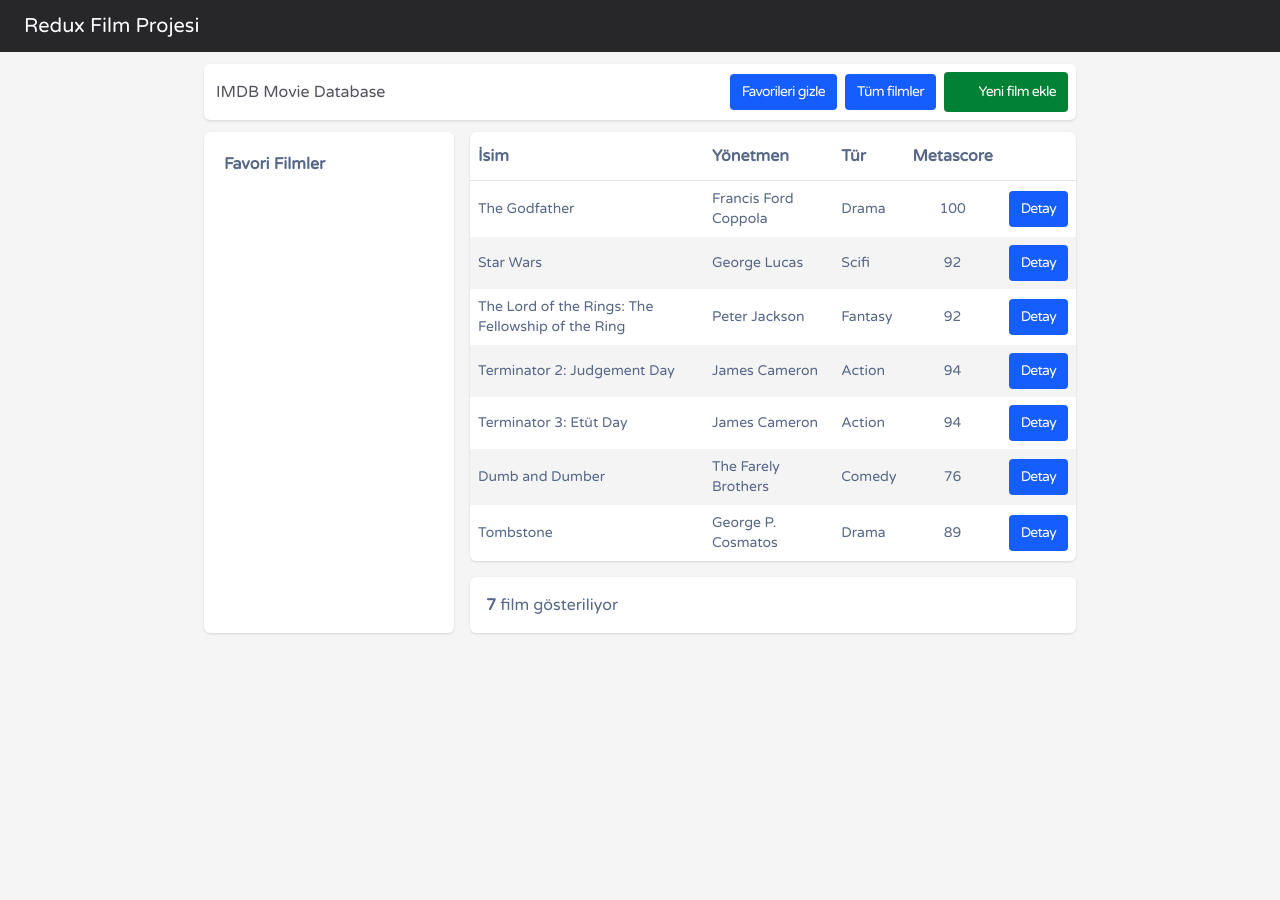
Test: Favorileri Gizle butonu tıklandığında favori panelini gizliyor mu?
The image size is (1280, 900).
What coordinates should you click on to do the following:
click the text "Favorileri gizle"
I would click on:
 (783, 92)
Its box is [742,82,825,102].
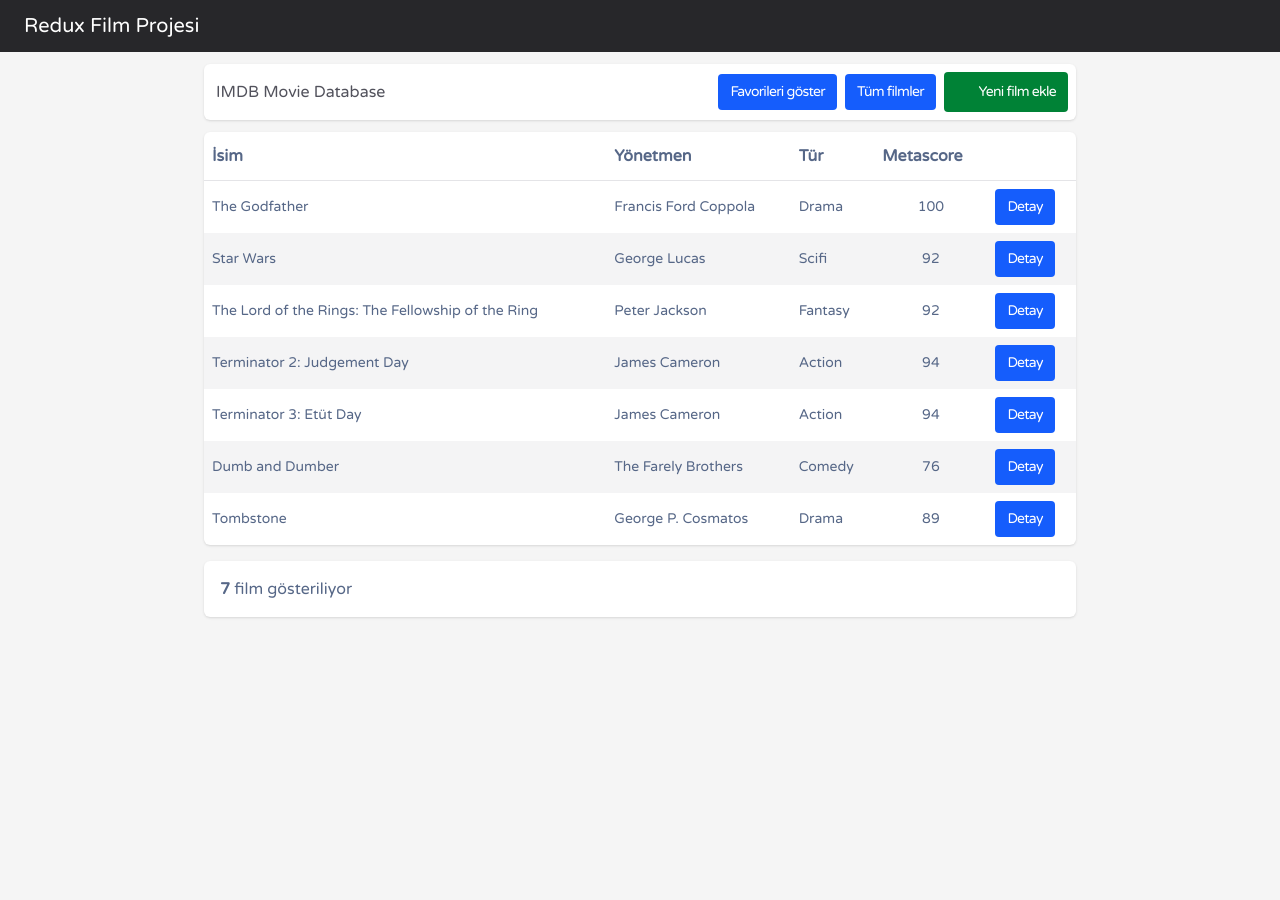
Expected: the heading "Favori Filmler" is gone
